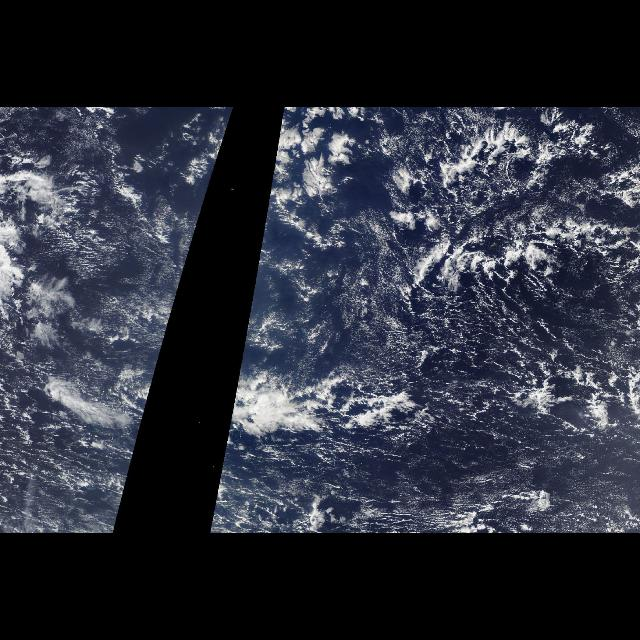Gravel: (376, 111, 640, 528)
